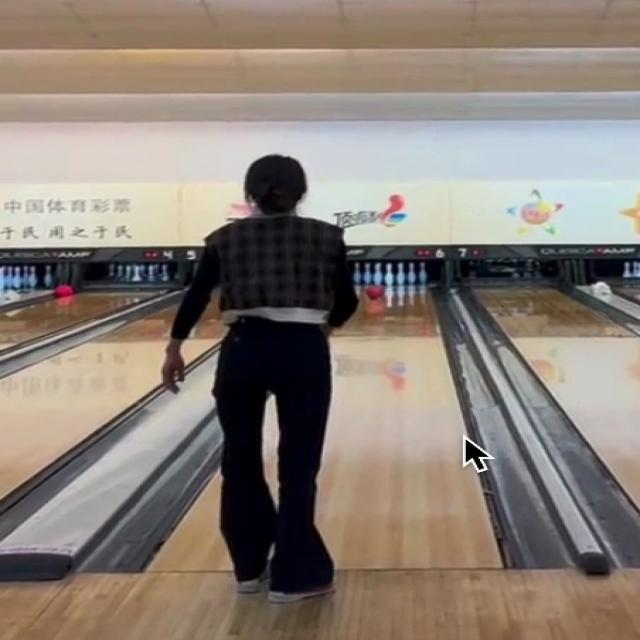alley: (317, 285, 498, 567), (152, 492, 225, 568)
balls: (365, 285, 384, 300)
bottle: (351, 260, 428, 288)
